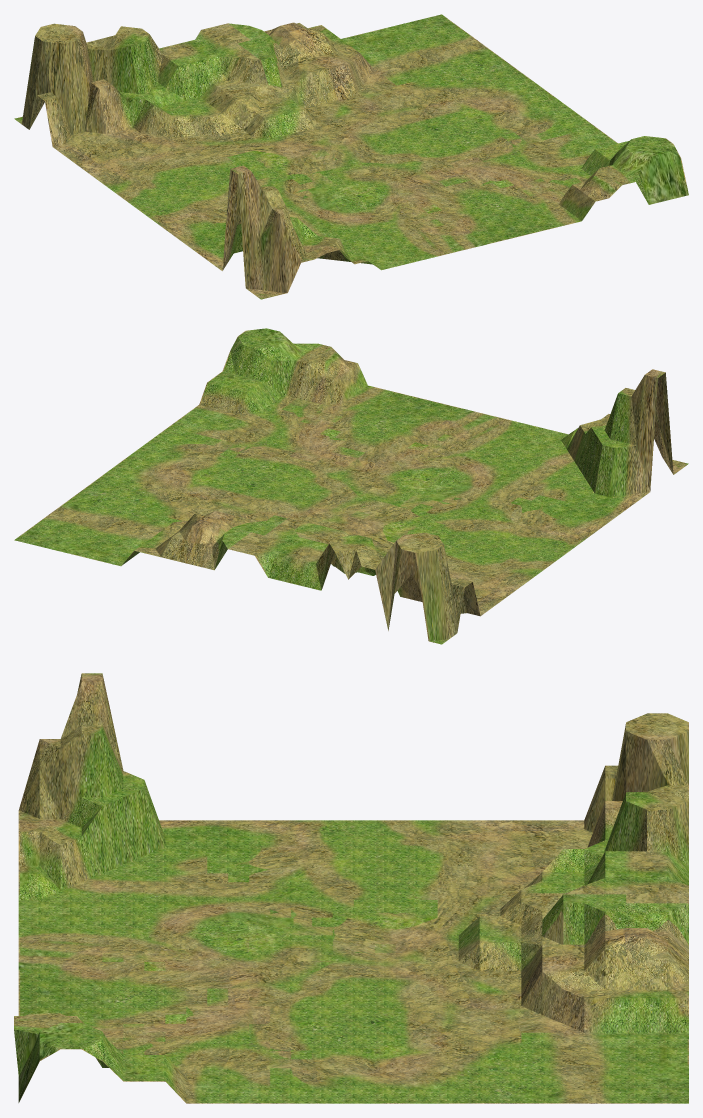
The model's file is map3.obj.
3 views of the same model, one above another, from view 1: azimuth 30°, elevation 25°; view 2: azimuth 150°, elevation 25°; view 3: azimuth 270°, elevation 25° (orthographic). The views are drawn at different scales.
Parts seen in each view (by area): view 1: Plane; view 2: Plane; view 3: Plane.
Part boxes in pixels (box(x1,y1,x2,y2)): Plane: box(14, 14, 688, 299); Plane: box(14, 328, 688, 644); Plane: box(14, 673, 688, 1103).
Bounding box in the file's own units: 191 × 46.23 × 193.
